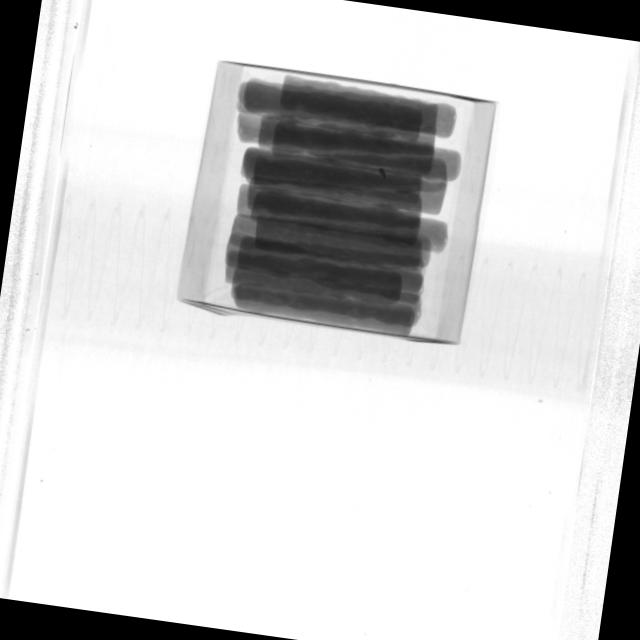ym: (378, 168, 391, 182)
